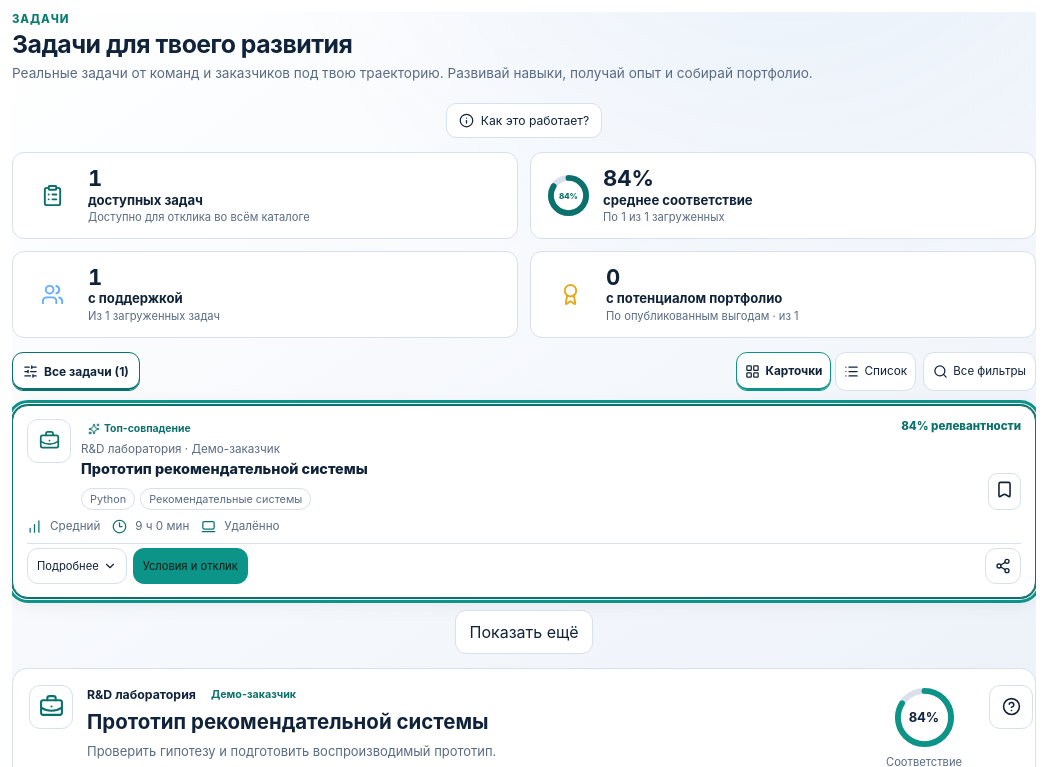
Test: task catalog v2 › loads the next keyset page without duplicate task keys
This screenshot has width=1048, height=767.
expect the heading "Прототип рекомендательной системы" below "R&D лаборатория · Демо-заказчик" is shown: met, box [81, 460, 368, 477]
What coordinates should you click on to do the following:
click the button "Показать ещё"
I would click on:
 (524, 632)
Its box is [454, 610, 594, 654].
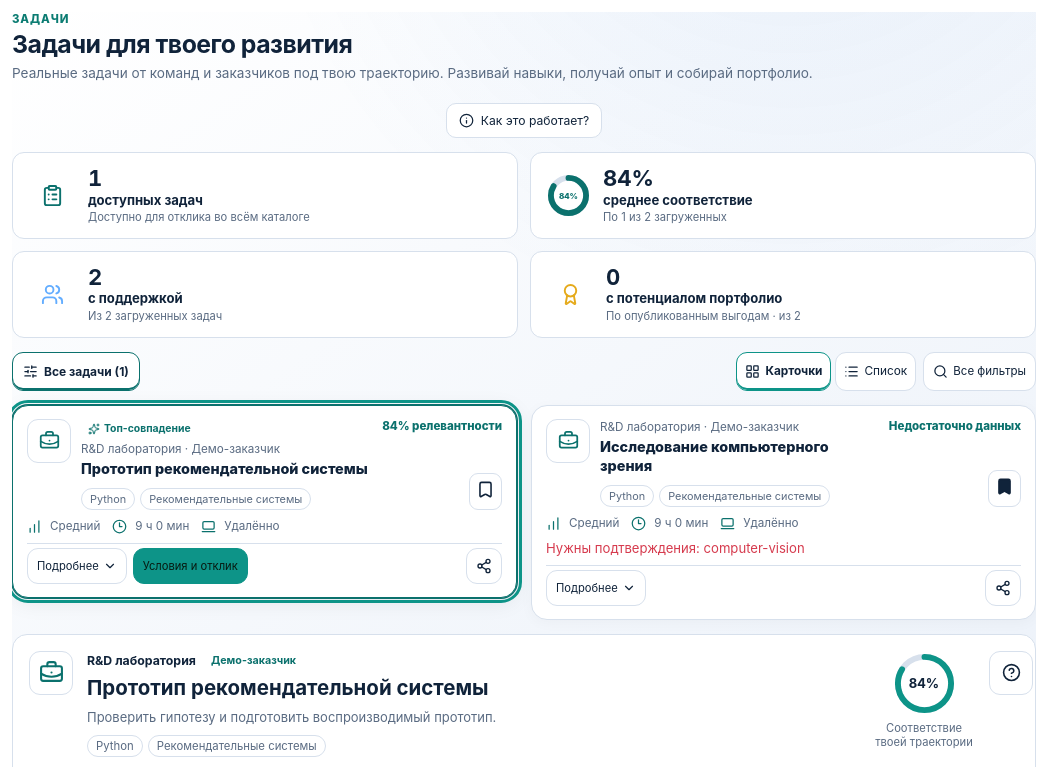
expect the heading "Исследование компьютерного зрения" is shown: met, box [600, 438, 828, 474]
